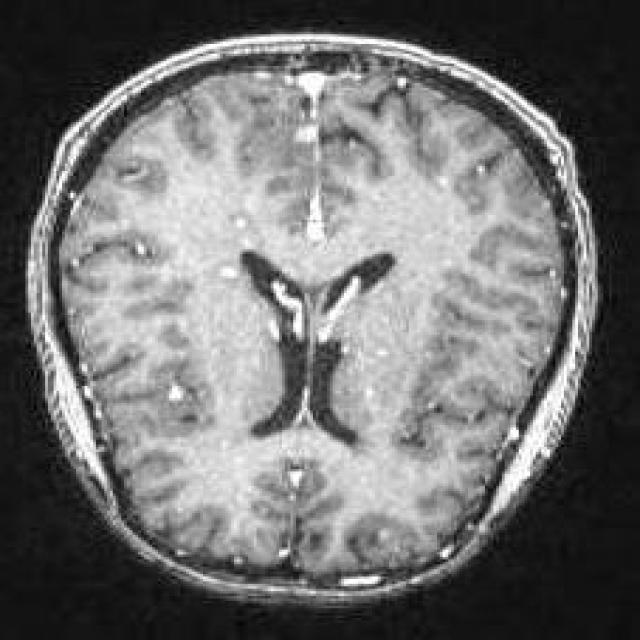no-tumor: (132, 136, 504, 502)
